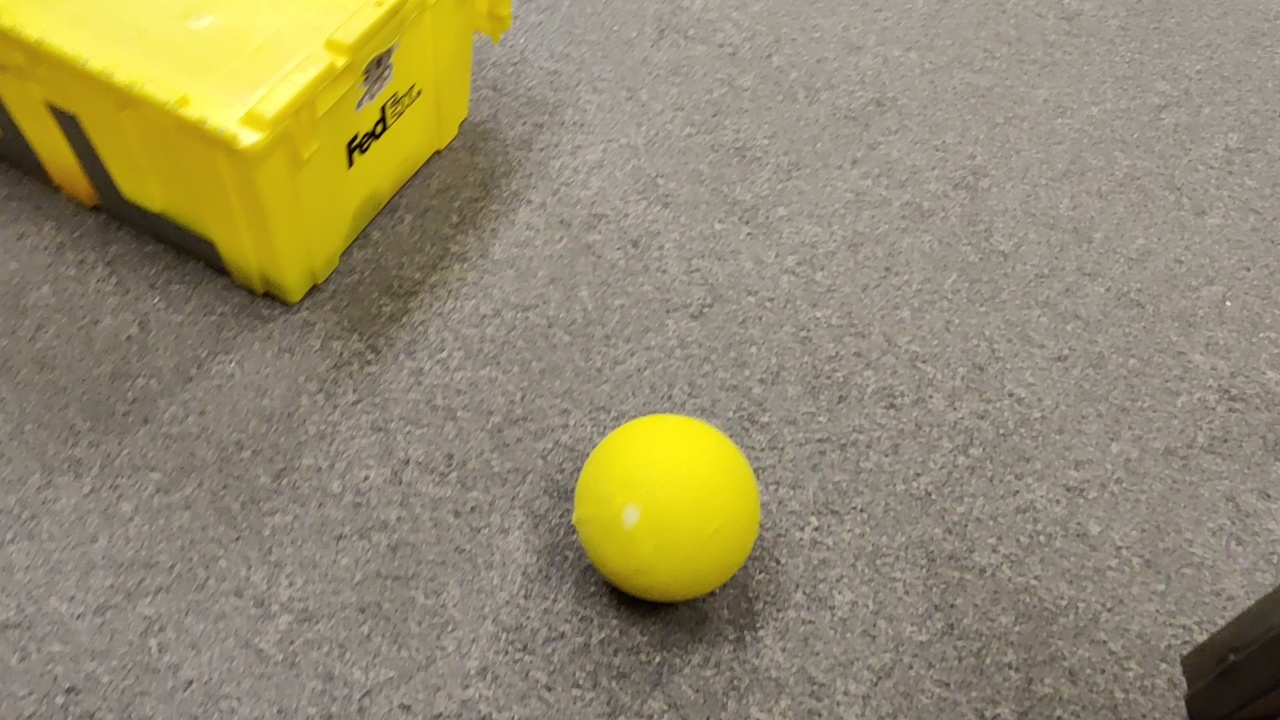Ball: (570, 417, 762, 612)
